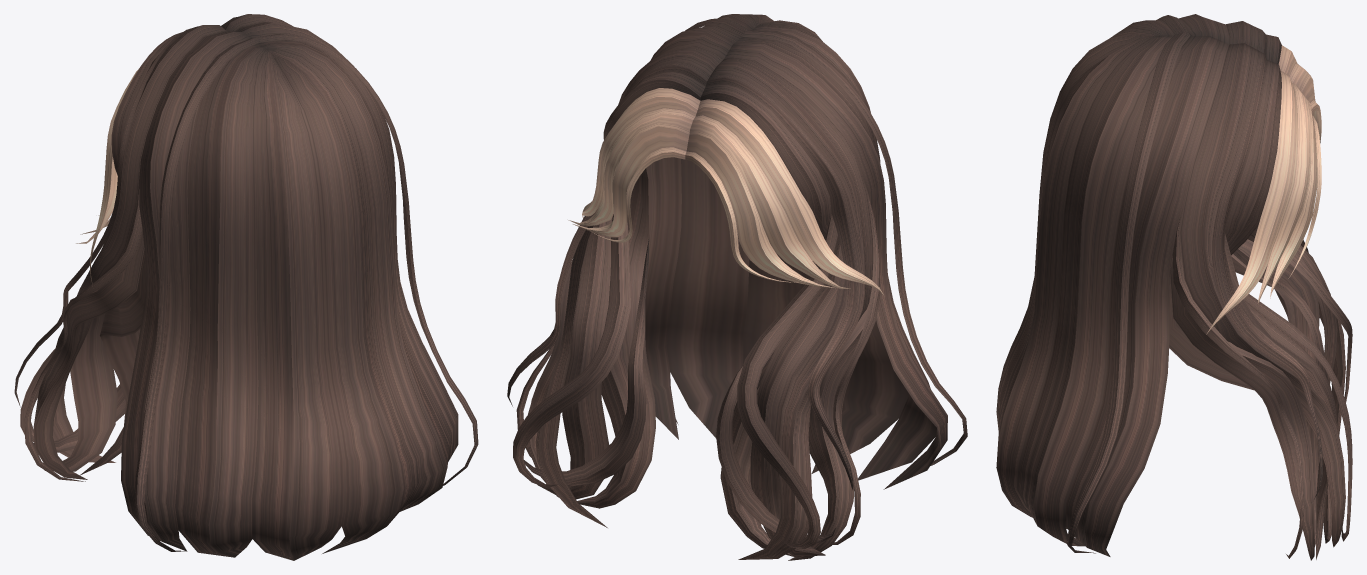
The picture shows the model from 3 angles, left to right: view 1: azimuth 30°, elevation 25°; view 2: azimuth 150°, elevation 25°; view 3: azimuth 270°, elevation 25°; orthographic projection. The views are drawn at different scales.
Visible parts, largest first — view 1: geometry_0; view 2: geometry_0; view 3: geometry_0.
Part boxes in pixels (bbox=[...]): geometry_0: bbox=[14, 14, 478, 560]; geometry_0: bbox=[507, 14, 967, 560]; geometry_0: bbox=[996, 14, 1352, 560].
Size of the model in its own units: 2.04 by 2.7 by 1.76.
1 material, 1 textured.
